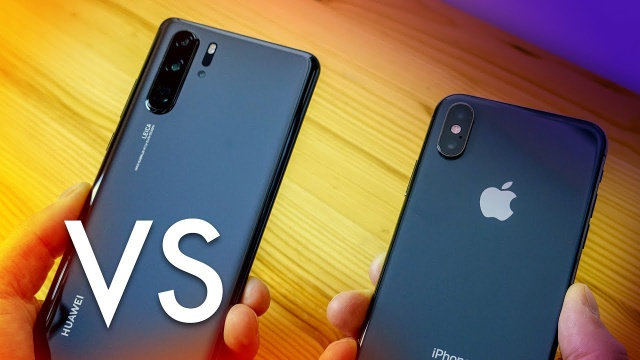apple: (468, 171, 526, 226)
